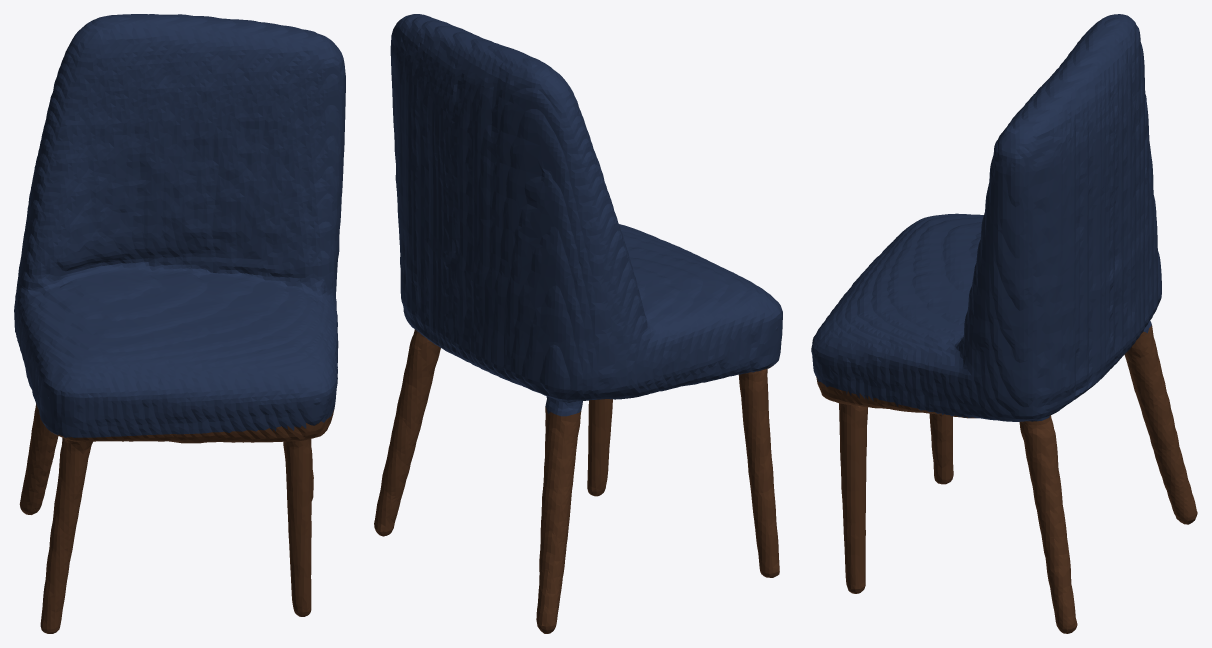
The model's file is chair_semantic.glb.
3 views of the same model, side by side, from view 1: azimuth 30°, elevation 25°; view 2: azimuth 150°, elevation 25°; view 3: azimuth 270°, elevation 25° (orthographic). The views are drawn at different scales.
Visible parts, largest first — view 1: RoomOne_Chair; view 2: RoomOne_Chair; view 3: RoomOne_Chair.
Part boxes in pixels (box(x1,y1,x2,y2)): RoomOne_Chair: box(14, 14, 345, 633); RoomOne_Chair: box(374, 14, 782, 633); RoomOne_Chair: box(811, 14, 1197, 633).
Size of the model in its own units: 1.35 by 2 by 1.29.
